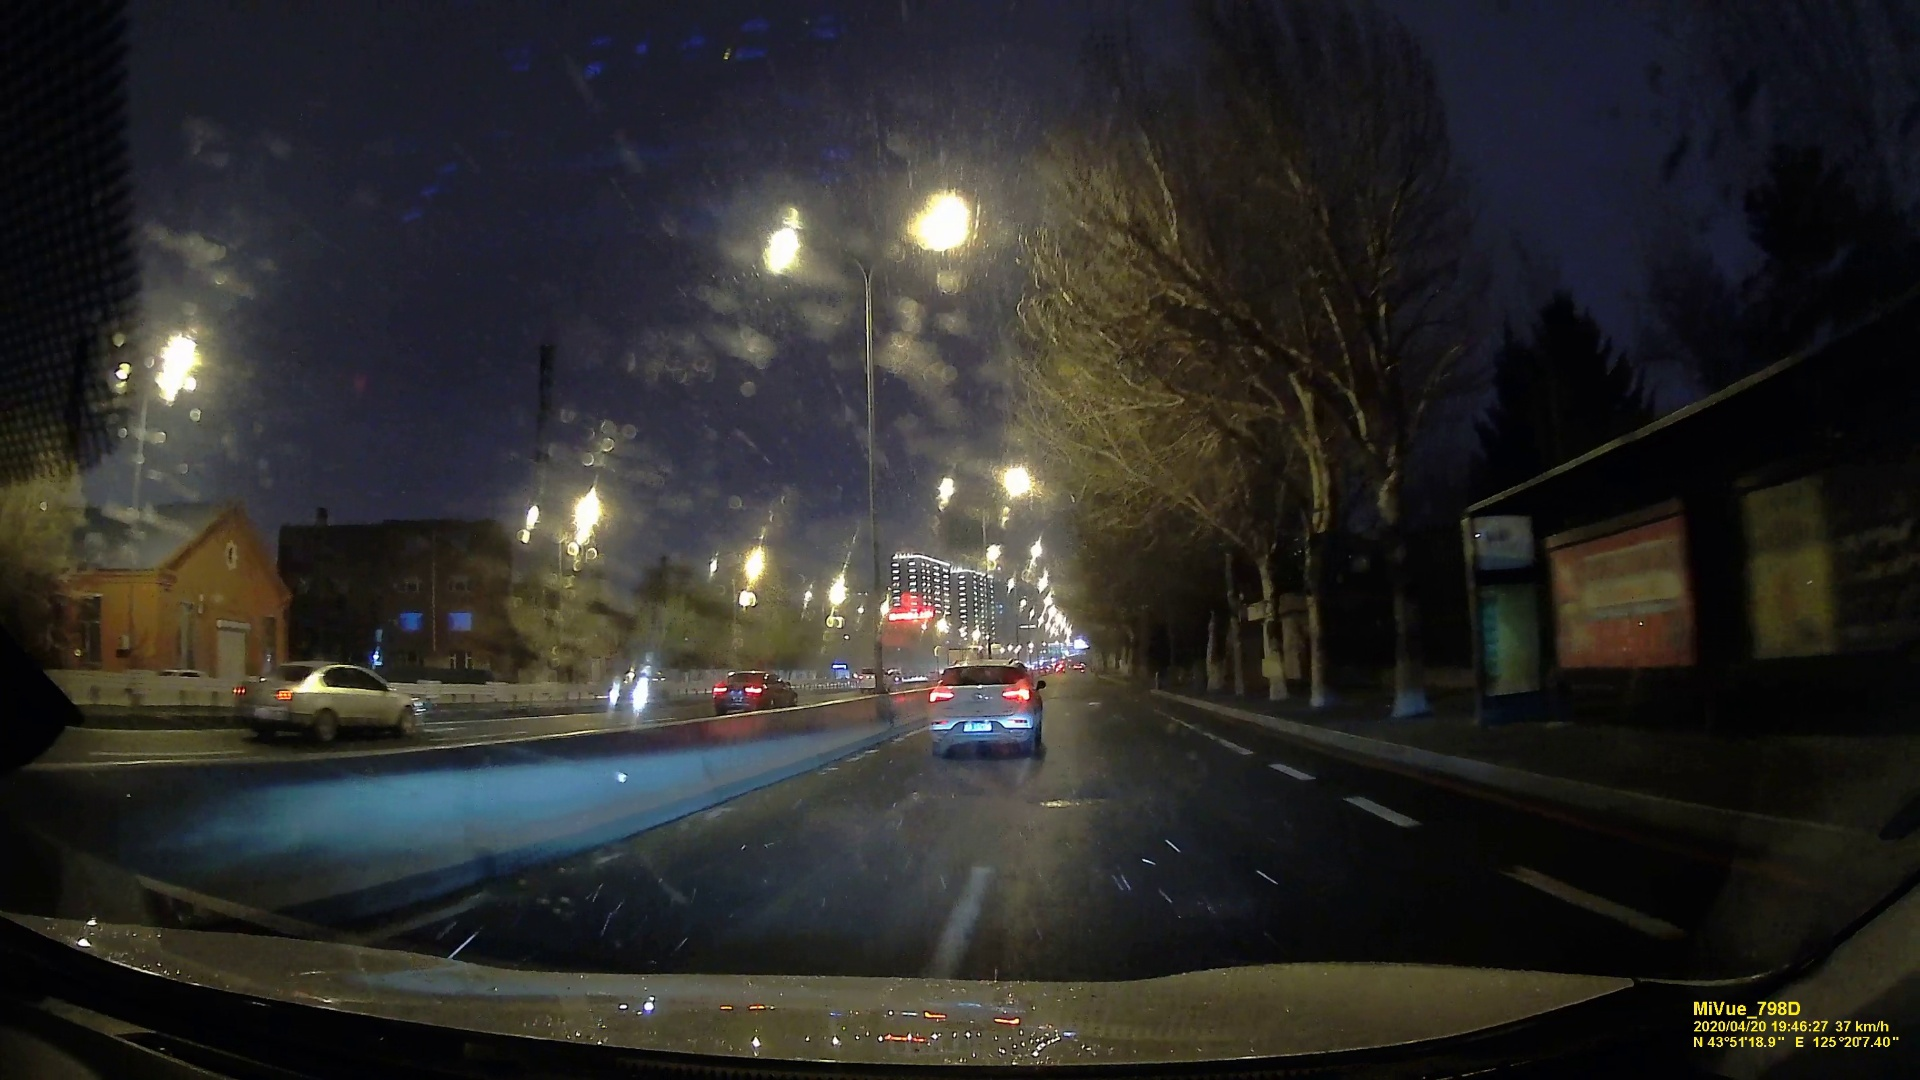vehicle: (236, 655, 434, 742), (926, 655, 1047, 761), (708, 669, 798, 713)
